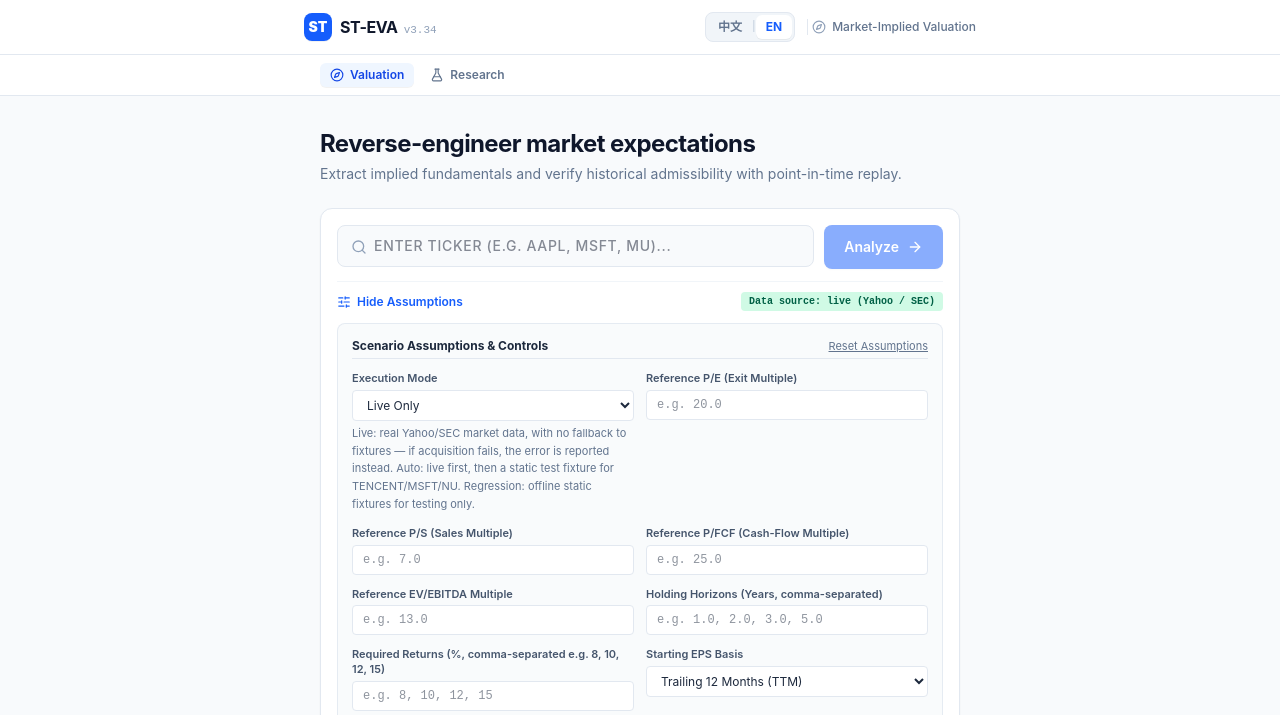
Test: Bilingual (i18n) Interface › renders TSM refusal in both languages without generic error
The image size is (1280, 715).
In the field with placeholder "Enter ticker (e.g. AAPL, MSFT, MU)...": point(576, 246) [337,225,814,267], type "TSM"
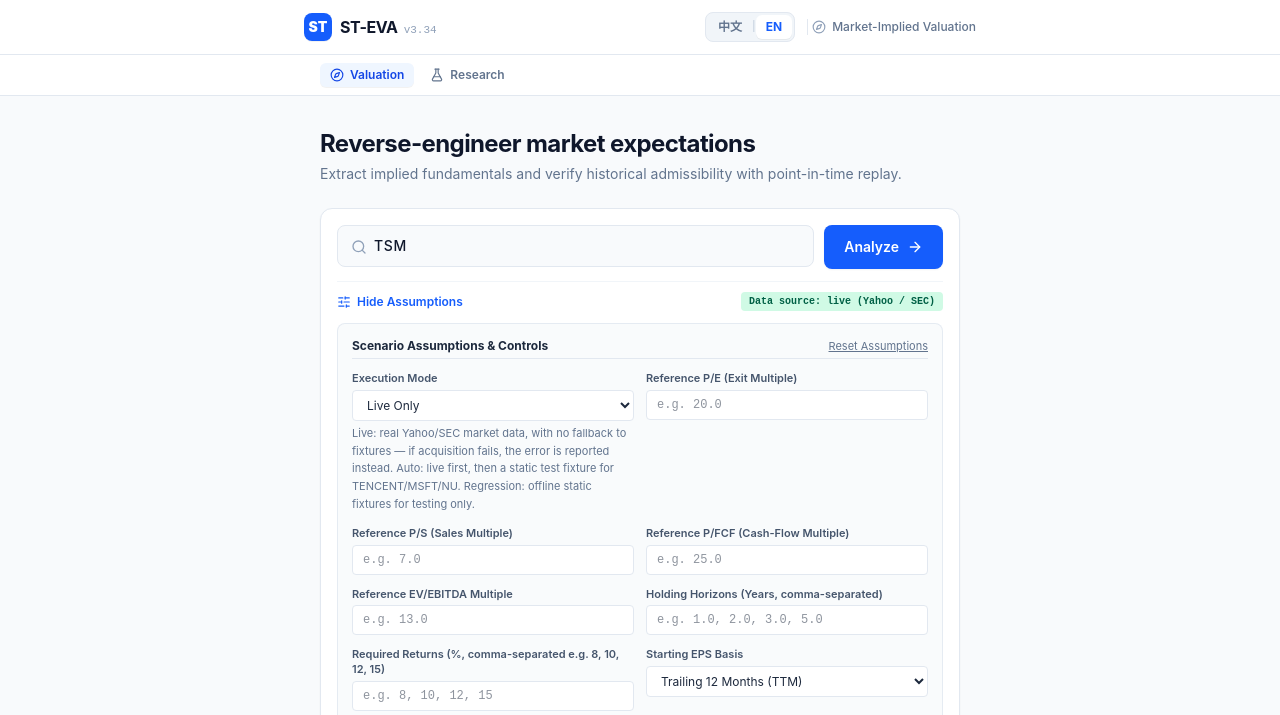
Click the button "Analyze": point(884, 247) [824,225,943,269]
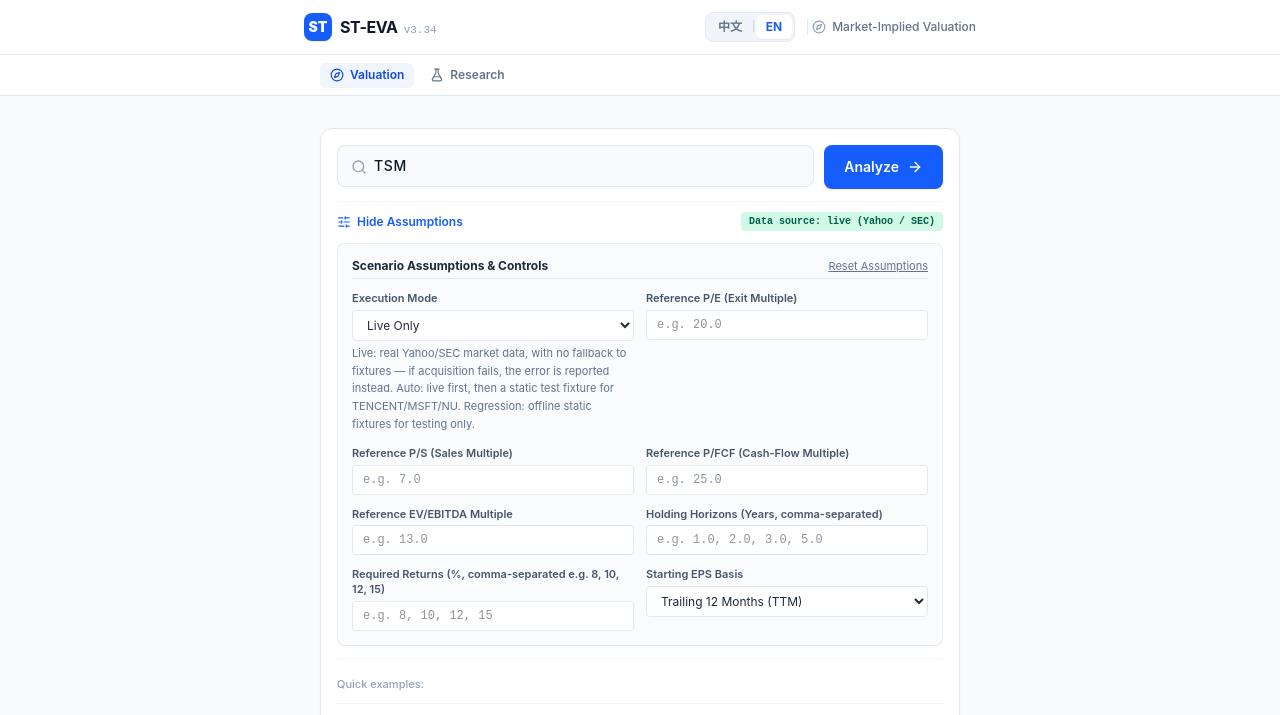
Note: Switch to Chinese
Click the button "中文": point(730, 27) [708,15,752,39]
(page scrolled)
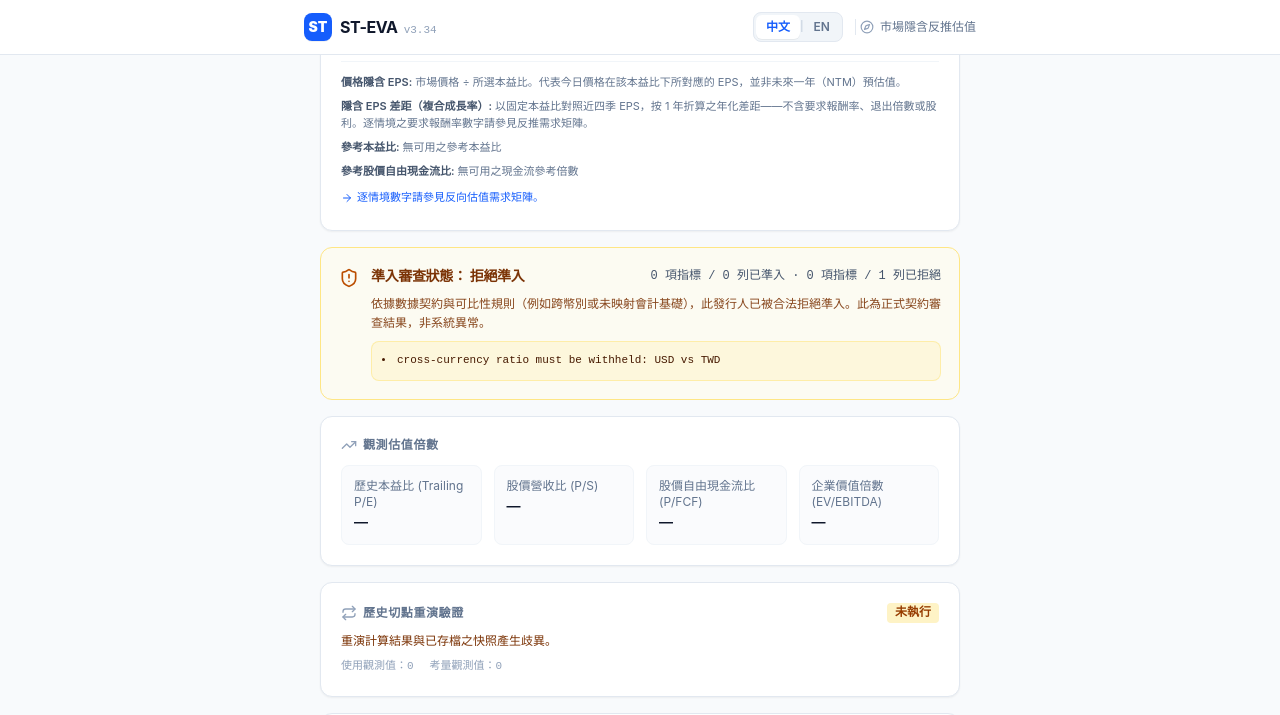
Check: the list item "cross-currency ratio must be withheld: USD vs TWD" is shown, box [397,354,720,366]
Check: the text "準入審查狀態： 拒絕準入" is shown, box [371,266,524,286]
Check: the text "依據數據契約與可比性規則（例如跨幣別或未映射會計基礎），此發行人已被合法拒絕準入。此為正式契約審查結果，非系統異常。" is shown, box [371,294,941,333]
